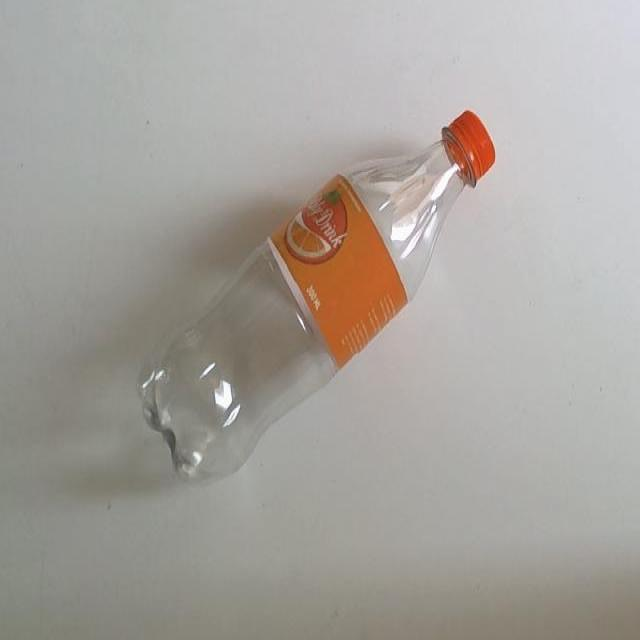non-defect: (134, 108, 497, 486)
